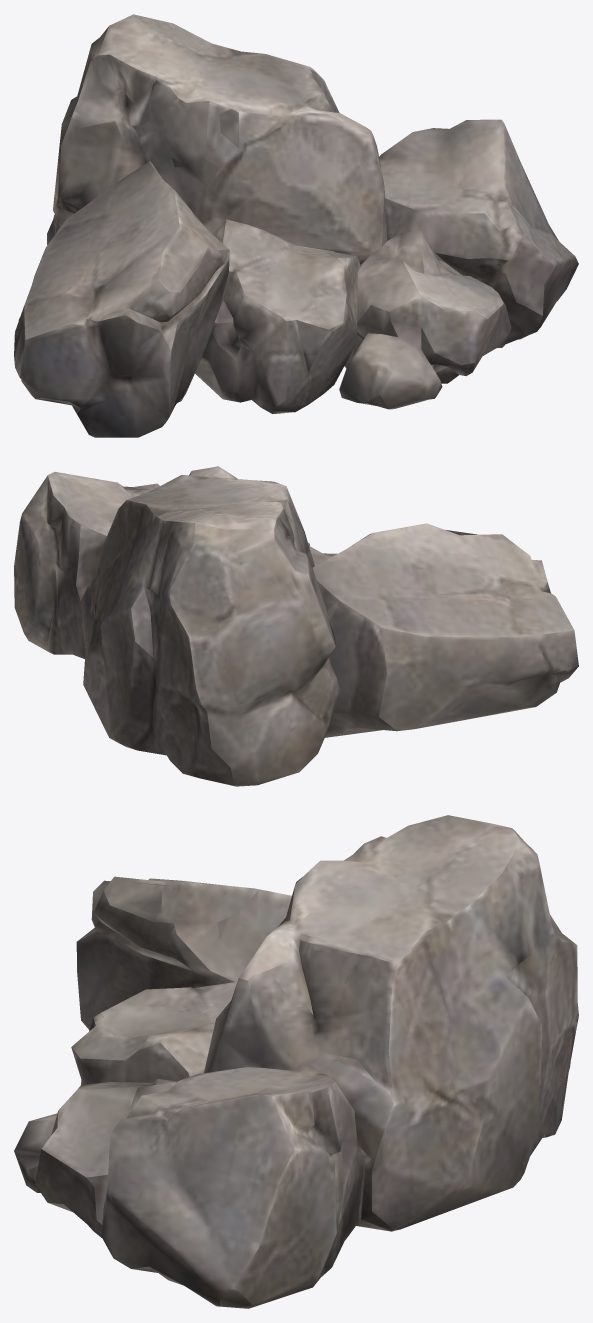
The picture shows the model from 3 angles, top to bottom: view 1: azimuth 30°, elevation 25°; view 2: azimuth 150°, elevation 25°; view 3: azimuth 270°, elevation 25°; orthographic projection. The views are drawn at different scales.
Visible parts, largest first — view 1: geometry_0; view 2: geometry_0; view 3: geometry_0.
Part boxes in pixels (left/top/right/bottom): geometry_0: left=14, top=14, right=578, bottom=437; geometry_0: left=14, top=466, right=578, bottom=786; geometry_0: left=14, top=815, right=578, bottom=1308.
Bounding box in the file's own units: 0.7989 × 0.3494 × 0.5866.
Materials: 1 (1 with a texture image).
